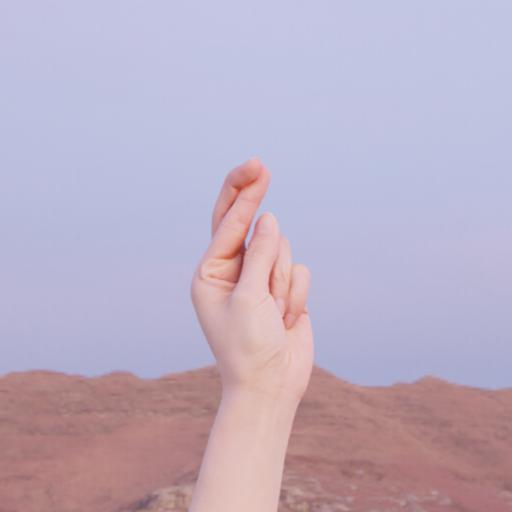R: (189, 145, 335, 433)
